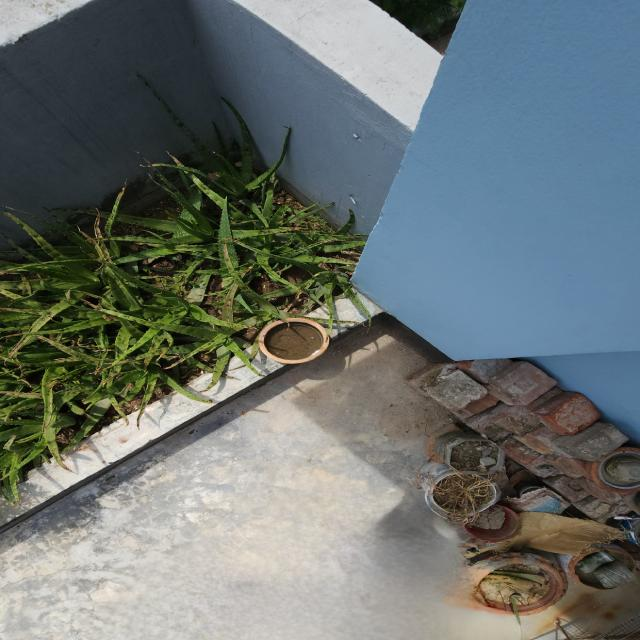Breeding Place: (0, 126, 391, 535), (399, 357, 640, 619), (248, 312, 339, 371)
